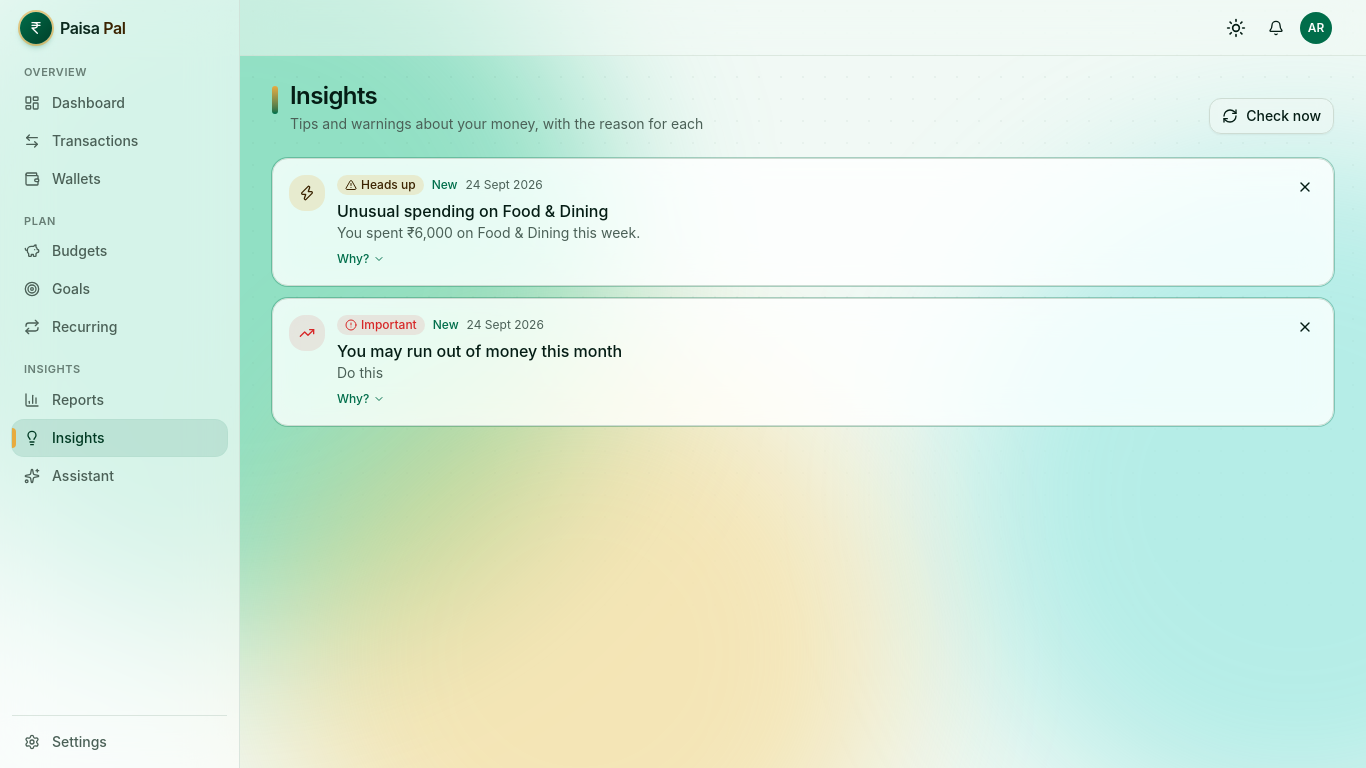
it: insights page › lists insights, explains them, dismisses and marks them seen
The width and height of the screenshot is (1366, 768).
Check: the element "Unusual spending on Food & Dining" shows "Heads up", box 361,177 -> 416,192
Check: the element "Unusual spending on Food & Dining" shows "New", box 432,177 -> 458,192
Click the button "Why?" below "Unusual spending on Food & Dining".
click(361, 259)  # box 337,251 -> 385,267
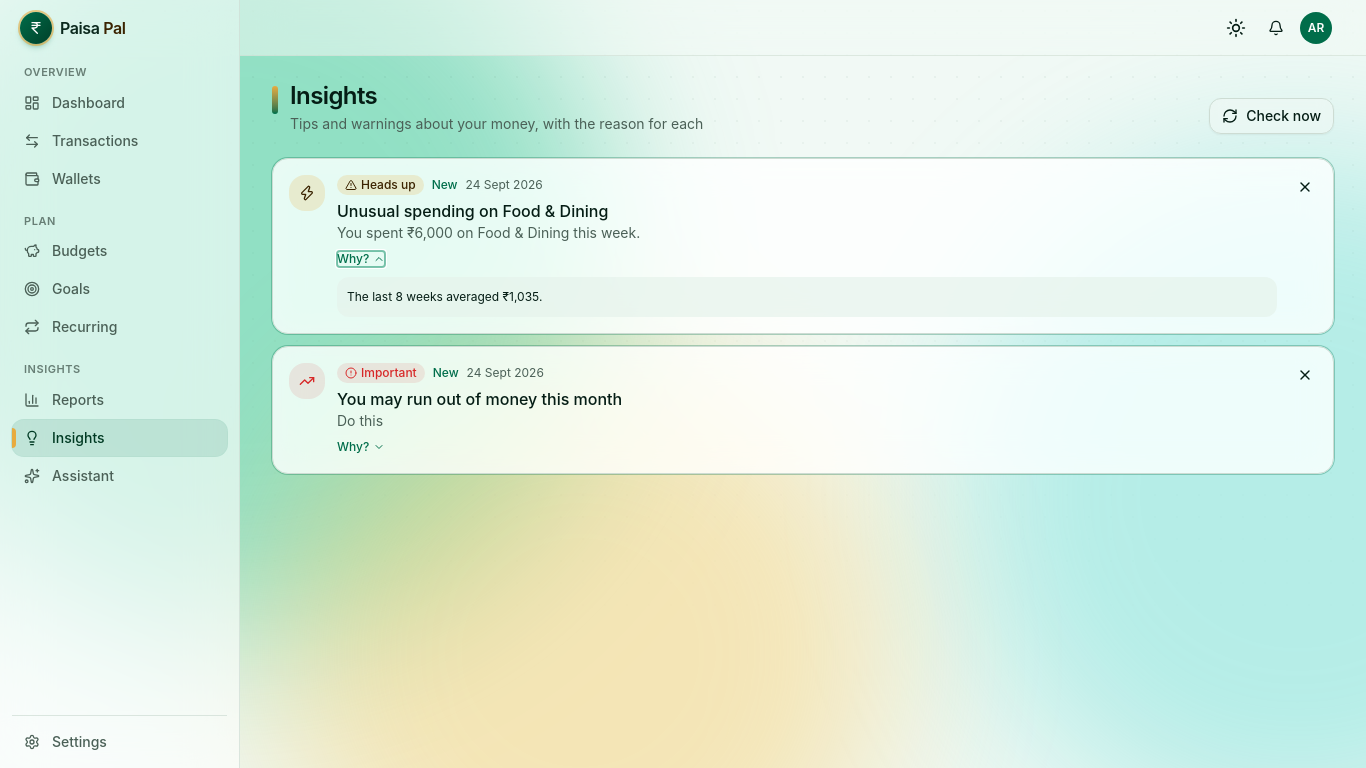
Check: the button "Why?" below "Unusual spending on Food & Dining" is expanded, box 337,251 -> 385,267
Check: the text "The last 8 weeks averaged ₹1,035." is shown, box 337,277 -> 1277,316
Click the button named "Dismiss \"Unusual spending on Food & Dining\"".
click(1305, 187)  # box 1289,171 -> 1321,203
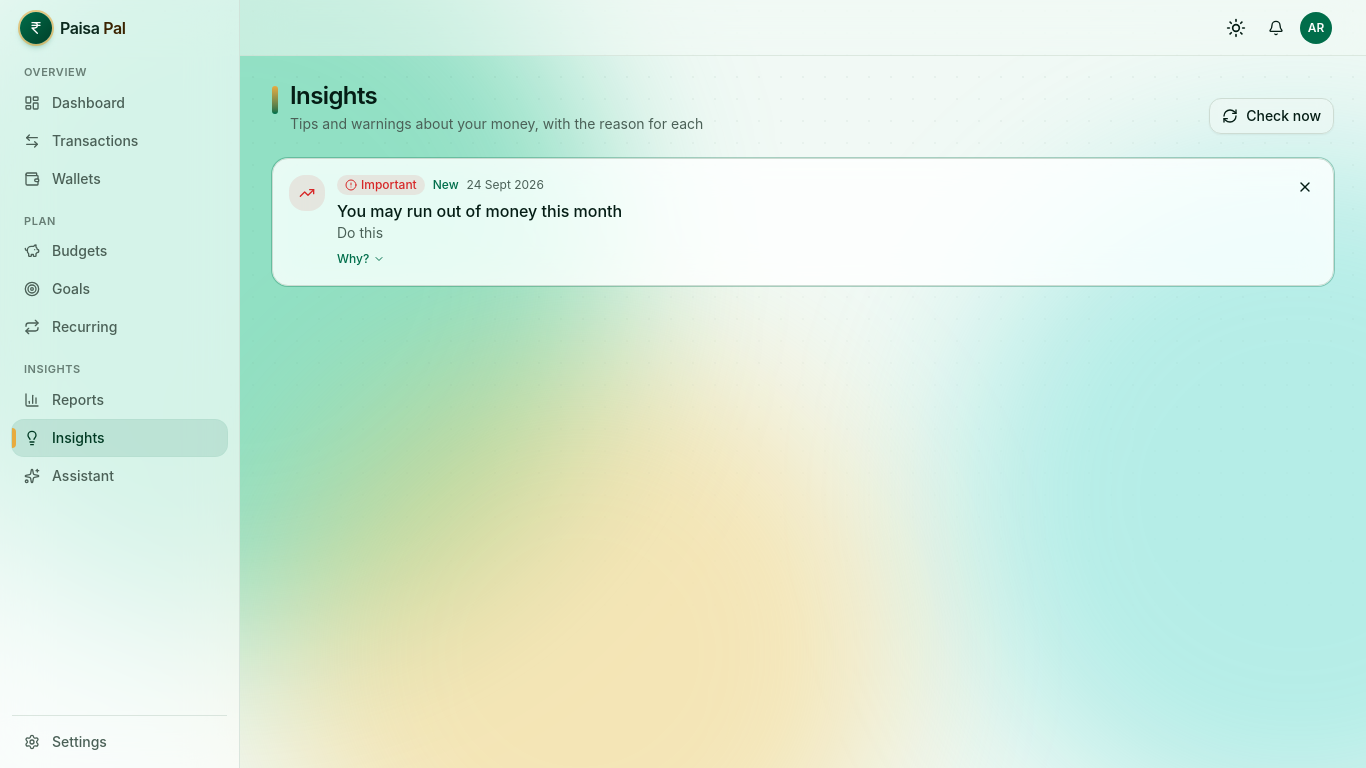
Check: the heading "Unusual spending on Food & Dining" is gone
